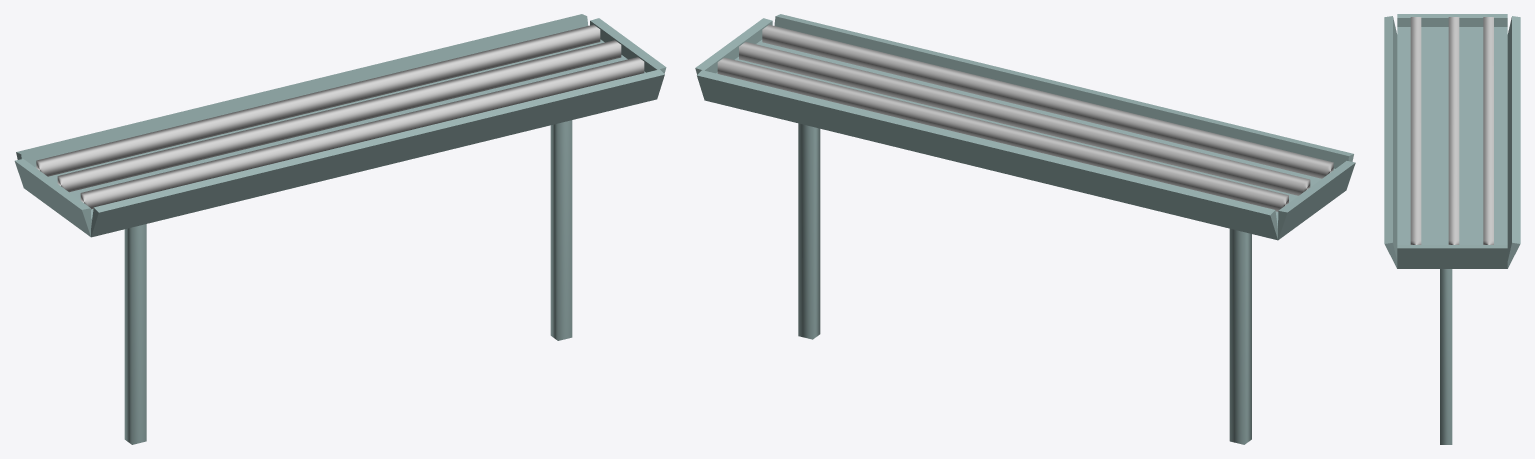
Rendered from LampCeiling1.fbx.
3 renders of one model, left to right at view 1: azimuth 30°, elevation 25°; view 2: azimuth 150°, elevation 25°; view 3: azimuth 270°, elevation 25°, orthographic. The views are drawn at different scales.
Parts seen in each view (by area): view 1: LampBase, light2, light1, light3, Leg2, Leg1; view 2: LampBase, light3, light2, light1, Leg1, Leg2; view 3: LampBase, light3, light2, light1, Leg2.
Part boxes in pixels (box(x1,y1,x2,y2)): LampBase: box(14, 14, 666, 237); light2: box(57, 40, 621, 192); light1: box(36, 24, 600, 176); light3: box(80, 57, 644, 209); Leg2: box(550, 120, 572, 340); Leg1: box(124, 224, 146, 444); LampBase: box(695, 14, 1355, 240); light3: box(762, 24, 1333, 178); light2: box(739, 42, 1310, 195); light1: box(717, 57, 1288, 211); Leg1: box(1229, 228, 1251, 444); Leg2: box(798, 123, 820, 339); LampBase: box(1384, 14, 1520, 268); light3: box(1410, 17, 1421, 244); light2: box(1448, 17, 1459, 244); light1: box(1483, 17, 1493, 244); Leg2: box(1440, 269, 1452, 444).
Bounding box in the file's own units: 10.02 × 4.51 × 2.46.
